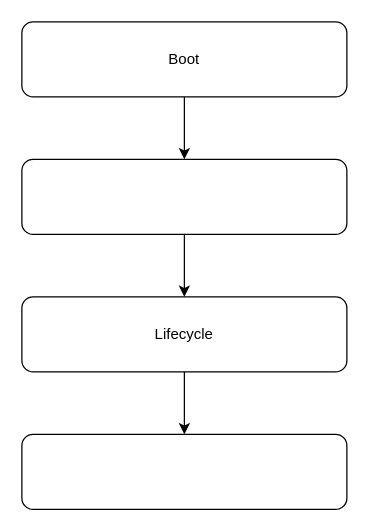
The diagram is 369 pixels wide and 531 high, and some of its shapes have lost their labels. The shapes that lost their labels are listed below. From the top down, each one's centre as x and y in pixels, then its label:
the point at 184,196: Registry
the point at 184,471: Runtime
